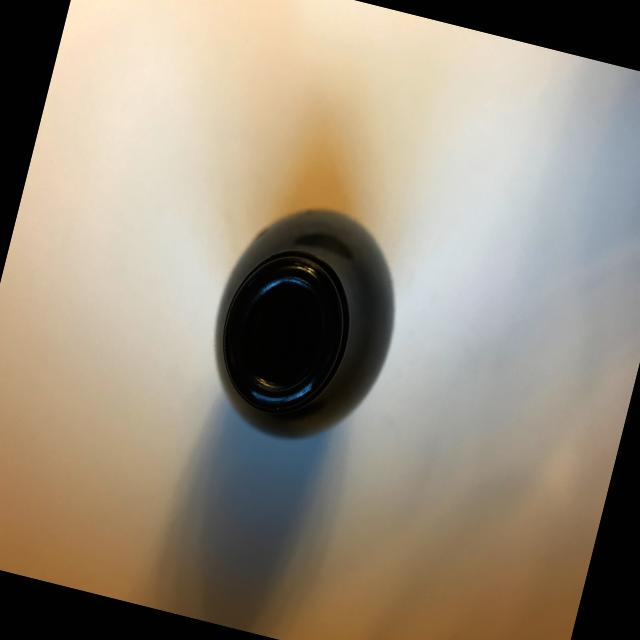Glass: (168, 167, 444, 478)
